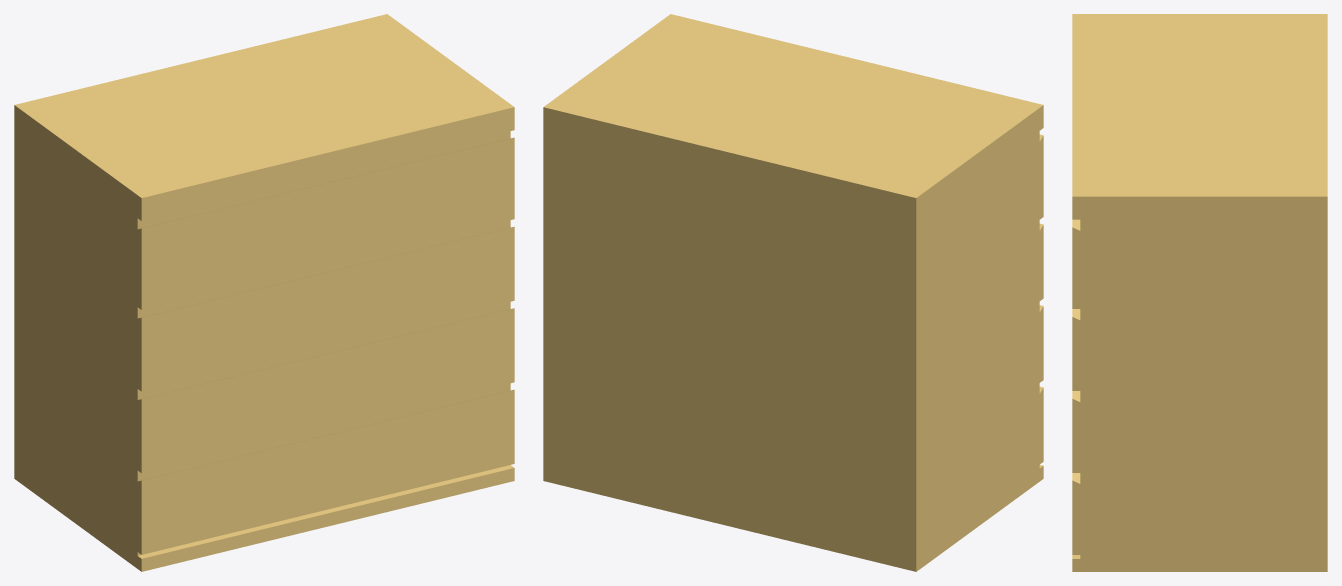
Rendered from Drawer_medium_1406_831_1346.fbx.
The picture shows the model from 3 angles, left to right: view 1: azimuth 30°, elevation 25°; view 2: azimuth 150°, elevation 25°; view 3: azimuth 270°, elevation 25°; orthographic projection.
Visible parts, largest first — view 1: Drawer_medium_1406_831_1346; view 2: Drawer_medium_1406_831_1346; view 3: Drawer_medium_1406_831_1346.
Boxes of the visible parts, x1,y1,x2,y2 form: Drawer_medium_1406_831_1346: (14,14,514,571); Drawer_medium_1406_831_1346: (543,14,1043,571); Drawer_medium_1406_831_1346: (1072,14,1327,571).
Size of the model in its own units: 141 by 135 by 83.12.
